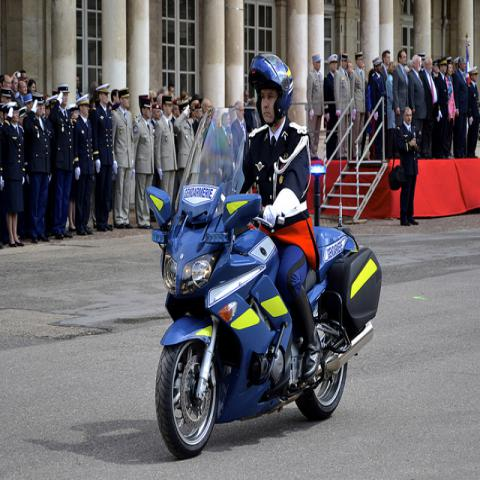motorcycle: (147, 184, 379, 468)
